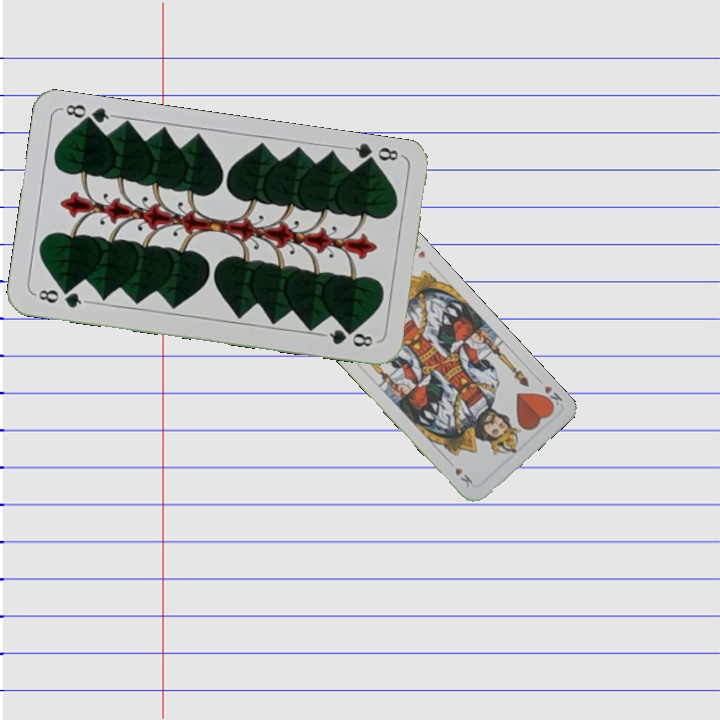G8: (345, 140, 401, 170), (31, 285, 90, 311)
HK: (533, 374, 565, 411)
